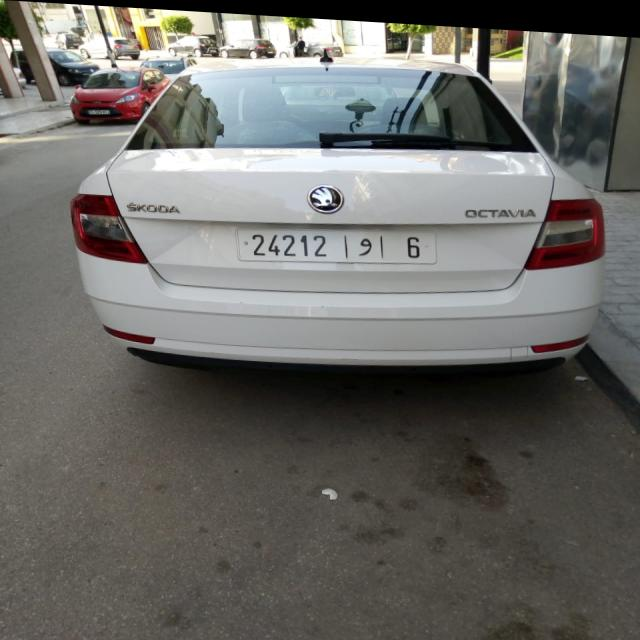License-Plate: (237, 225, 437, 259)
